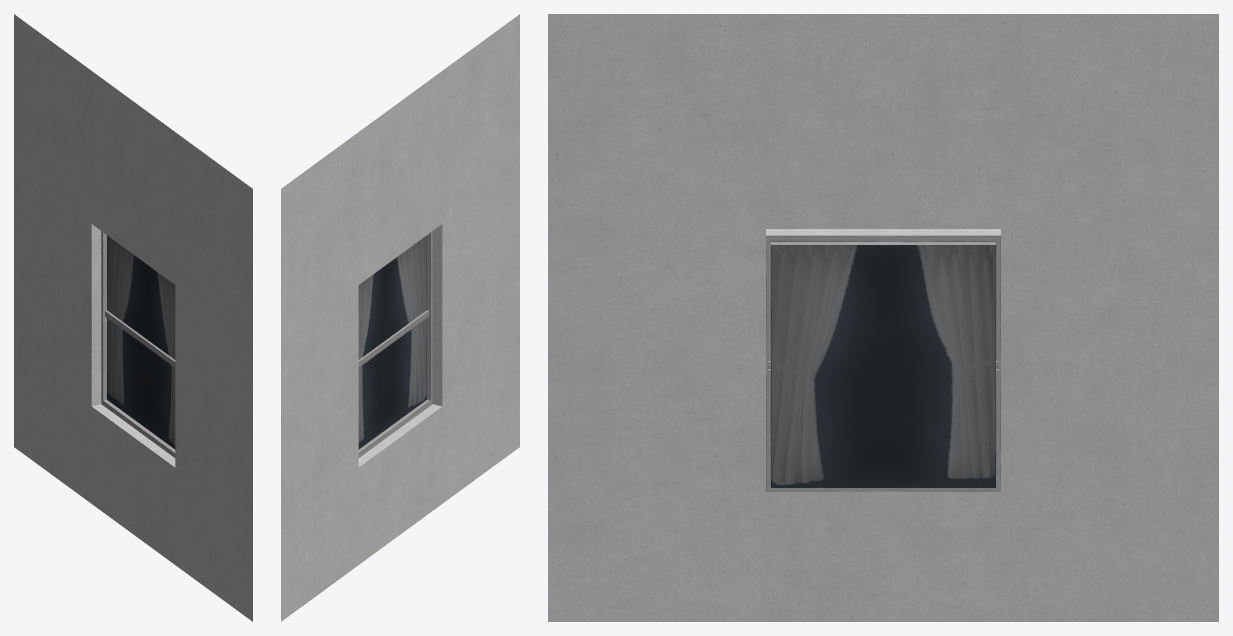
Rendered from MB_Wall_Window_A_02.fbx.
3 views of the same model, side by side, from view 1: azimuth 30°, elevation 25°; view 2: azimuth 150°, elevation 25°; view 3: azimuth 270°, elevation 25° (orthographic). The views are drawn at different scales.
Visible parts, largest first — view 1: MB_Wall_Window_A_02; view 2: MB_Wall_Window_A_02; view 3: MB_Wall_Window_A_02.
Part boxes in pixels (x1,y1,x2,y2): MB_Wall_Window_A_02: (14, 14, 252, 621); MB_Wall_Window_A_02: (281, 14, 519, 621); MB_Wall_Window_A_02: (548, 14, 1218, 621).
Size of the model in its own units: 13.32 by 400 by 400.
